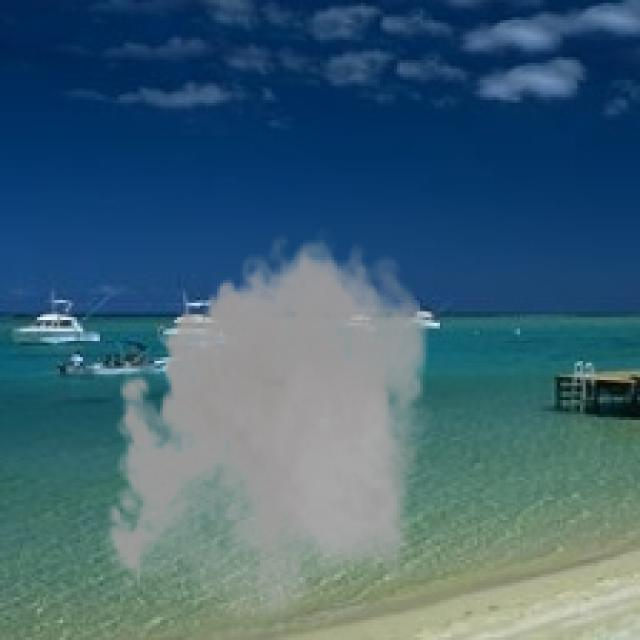Smoke: (97, 225, 443, 638)
